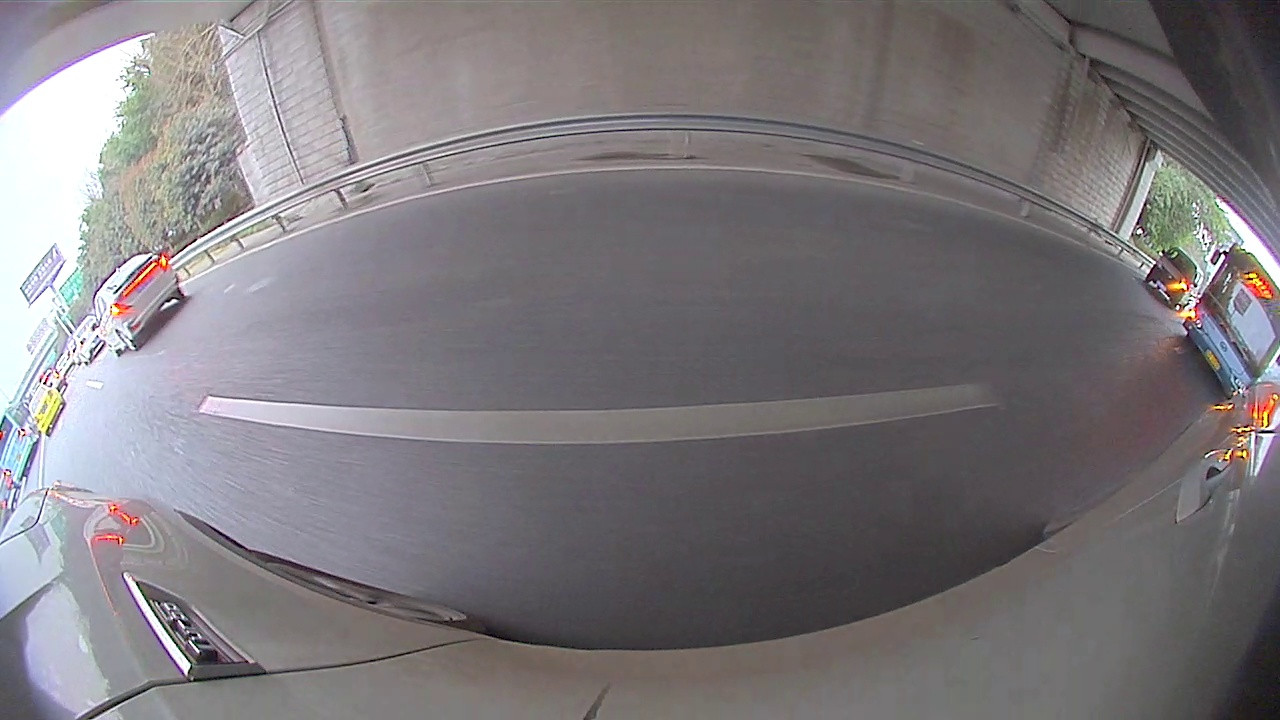bus: (1177, 240, 1279, 400)
car: (90, 247, 187, 361), (1141, 244, 1206, 312), (20, 381, 69, 440)
rear: (117, 332, 140, 354)
